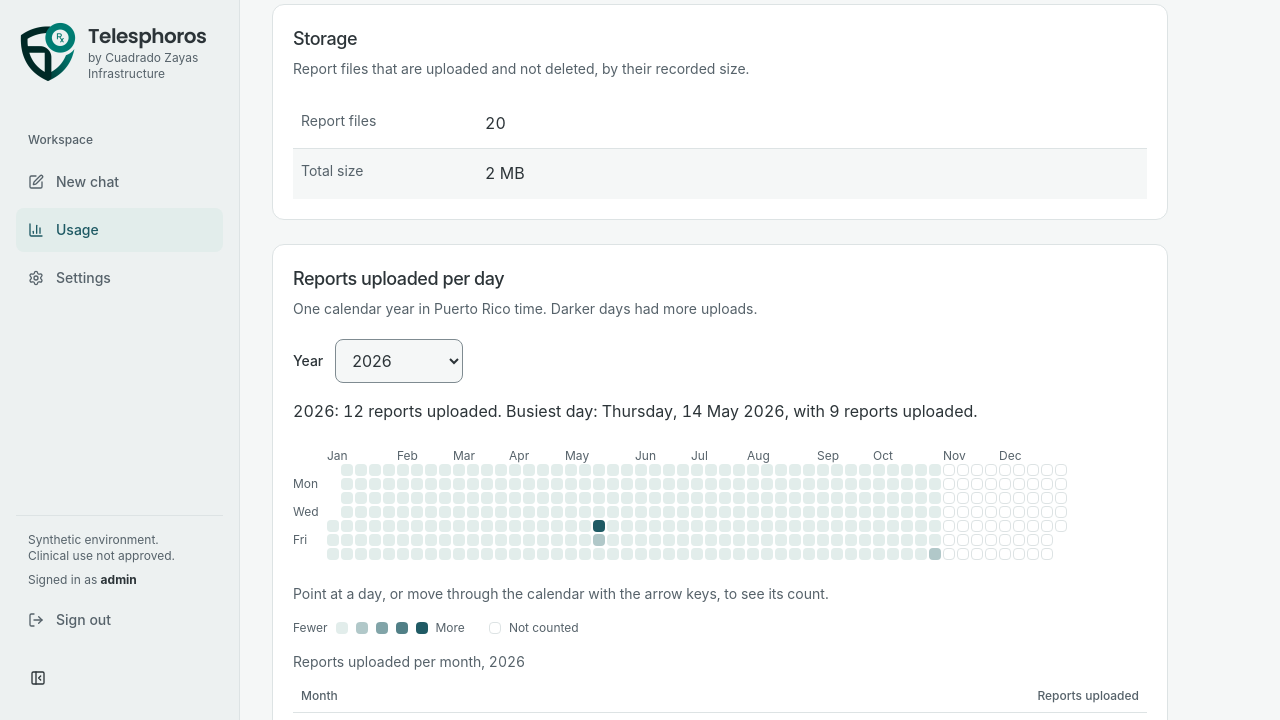
Test: Usage calendar (specs/028-usage-heatmap) › loads another year from the picker, keeps the monthly figures, and asks for nothing else again
(page scrolled)
Select "2025" in the dropdown labelled "Year" at x=399, y=361, box [335,339,463,383]
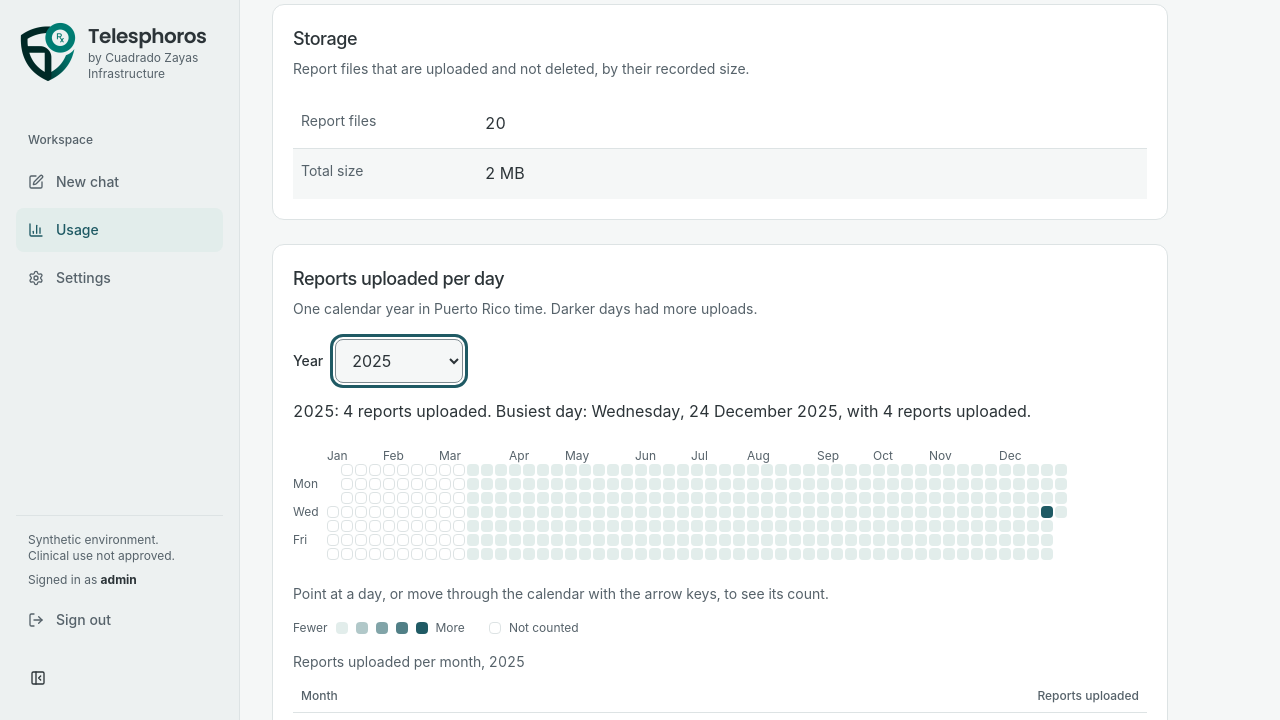
Expected: the element "Storage" is shown, [272,4,1168,220]
Result: the text "2025: 4 reports uploaded. Busiest day: Wednesday, 24 December 2025, with 4 reports uploaded." is shown at [293,401,1031,421]
